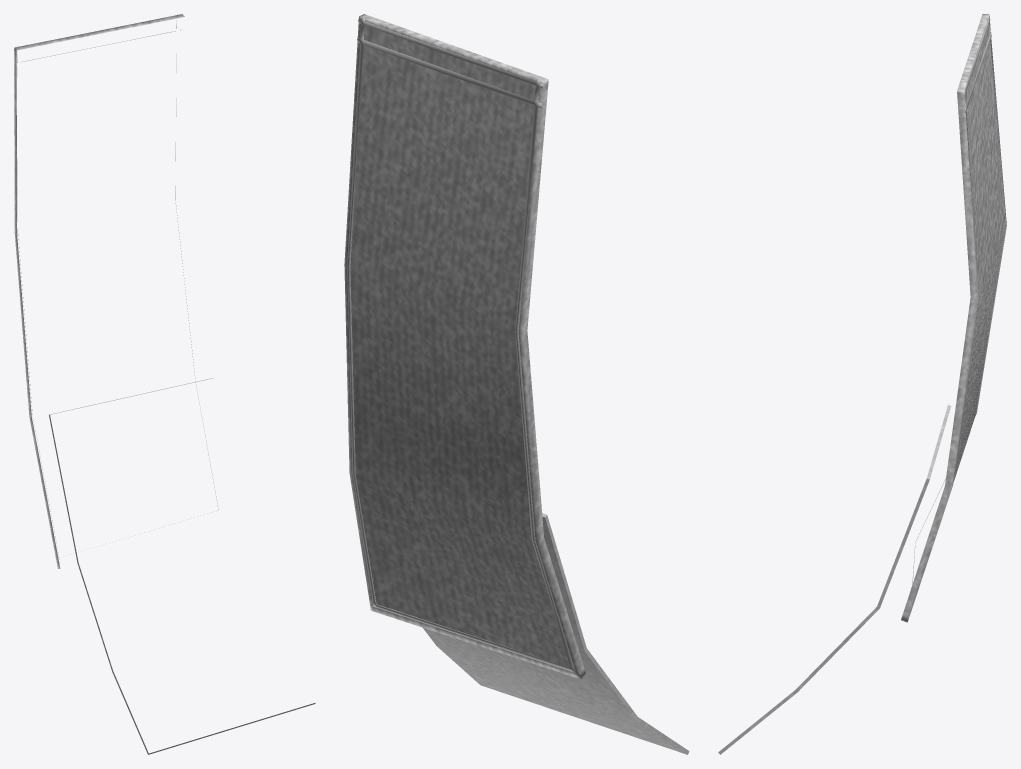
The model's file is Screed.glb.
3 renders of one model, left to right at view 1: azimuth 30°, elevation 25°; view 2: azimuth 150°, elevation 25°; view 3: azimuth 270°, elevation 25°, orthographic. The views are drawn at different scales.
Visible parts, largest first — view 1: Hood_M4.002, Lipuchka1, Rope1; view 2: Hood_M4.002, Lipuchka1, Rope1; view 3: Hood_M4.002, Rope1, Lipuchka1.
Boxes of the visible parts, <box> form: Hood_M4.002: <box>14,14,184,568</box>; Lipuchka1: <box>49,378,315,754</box>; Rope1: <box>14,14,218,561</box>; Hood_M4.002: <box>344,14,585,679</box>; Lipuchka1: <box>423,513,689,754</box>; Rope1: <box>347,17,575,672</box>; Hood_M4.002: <box>901,14,1006,622</box>; Rope1: <box>912,16,1006,602</box>; Lipuchka1: <box>718,405,950,754</box>.
Bounding box in the file's own units: 0.0484 × 0.164 × 0.0643.
Materials: 3 (3 with a texture image).
